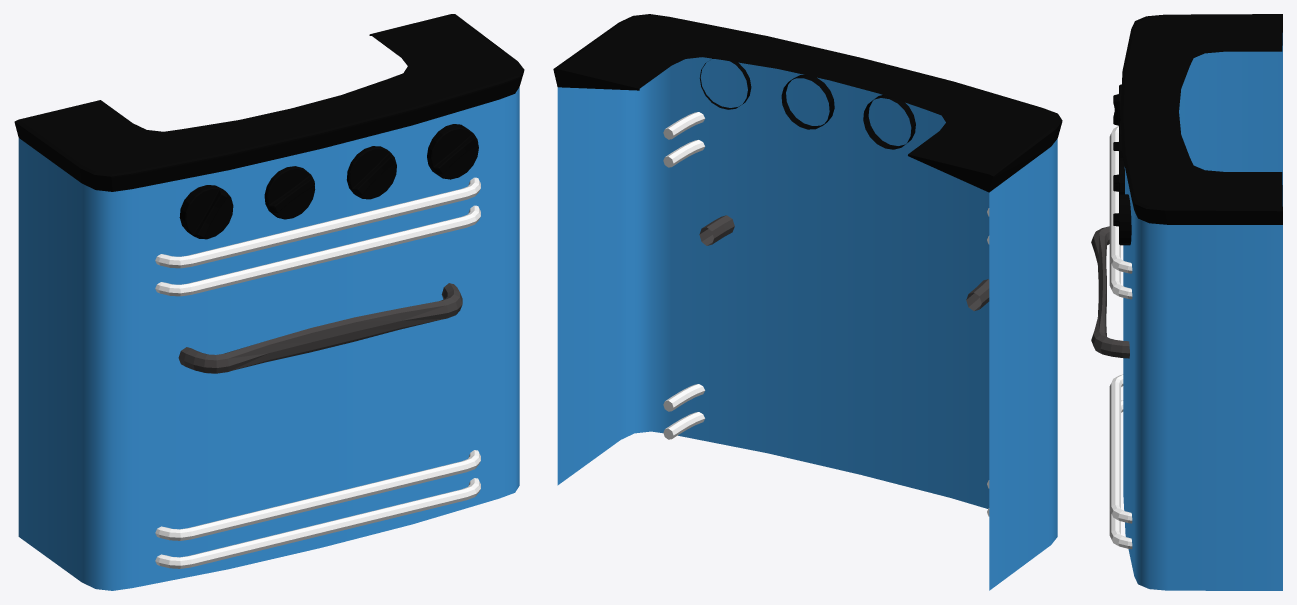
Rendered from Kitchen_Oven.FBX.
3 views of the same model, side by side, from view 1: azimuth 30°, elevation 25°; view 2: azimuth 150°, elevation 25°; view 3: azimuth 270°, elevation 25° (orthographic). The views are drawn at different scales.
Visible parts, largest first — view 1: Kitchen_Oven; view 2: Kitchen_Oven; view 3: Kitchen_Oven.
Boxes of the visible parts, left/top/right/bottom form: Kitchen_Oven: left=14, top=14, right=524, bottom=590; Kitchen_Oven: left=553, top=14, right=1062, bottom=590; Kitchen_Oven: left=1091, top=14, right=1282, bottom=590.
Bounding box in the file's own units: 0.7928 × 0.7172 × 0.3258.
